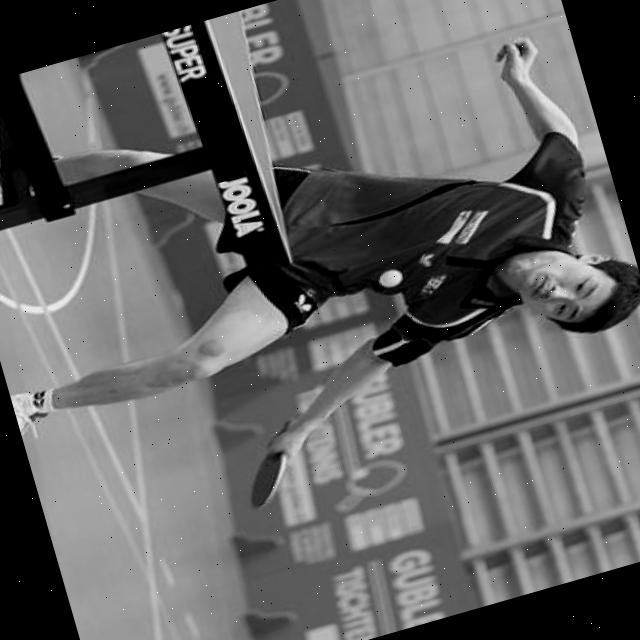ping-pong-ball: (375, 266, 406, 292)
